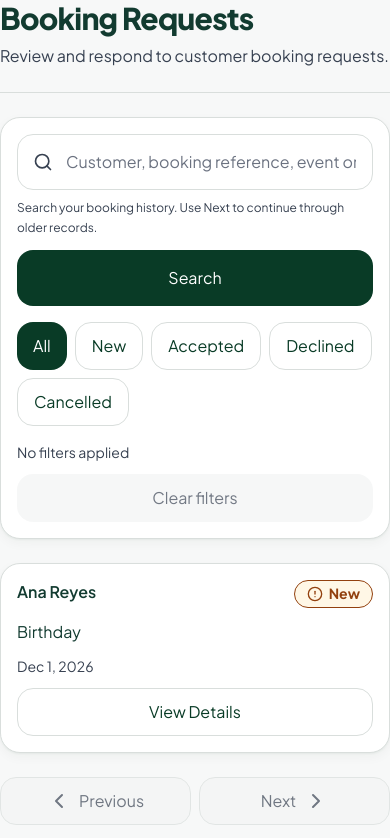
Scenario: provider request acceptance copy › shows a retry state when fresh request details fail
Click the button with aria-label "View Details for Ana Reyes".
click(195, 712)  # box left=17, top=688, right=373, bottom=736
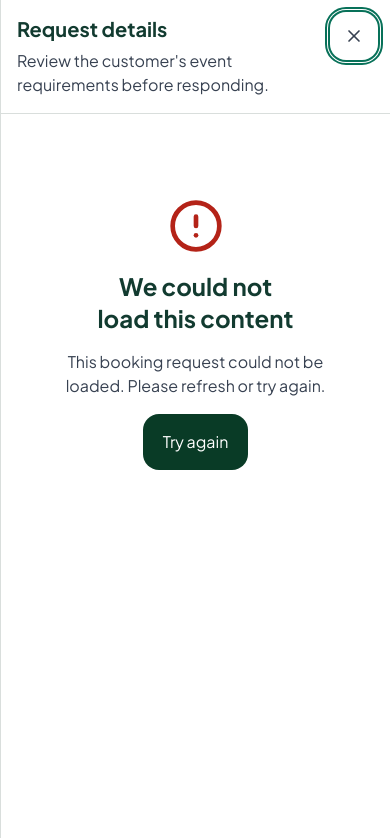
Expected: the text "This booking request could not be loaded. Please refresh or try again." is shown, left=66, top=351, right=325, bottom=396
